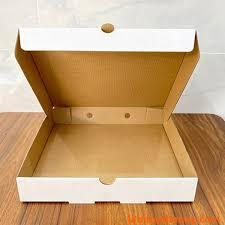box: (14, 28, 202, 203)
